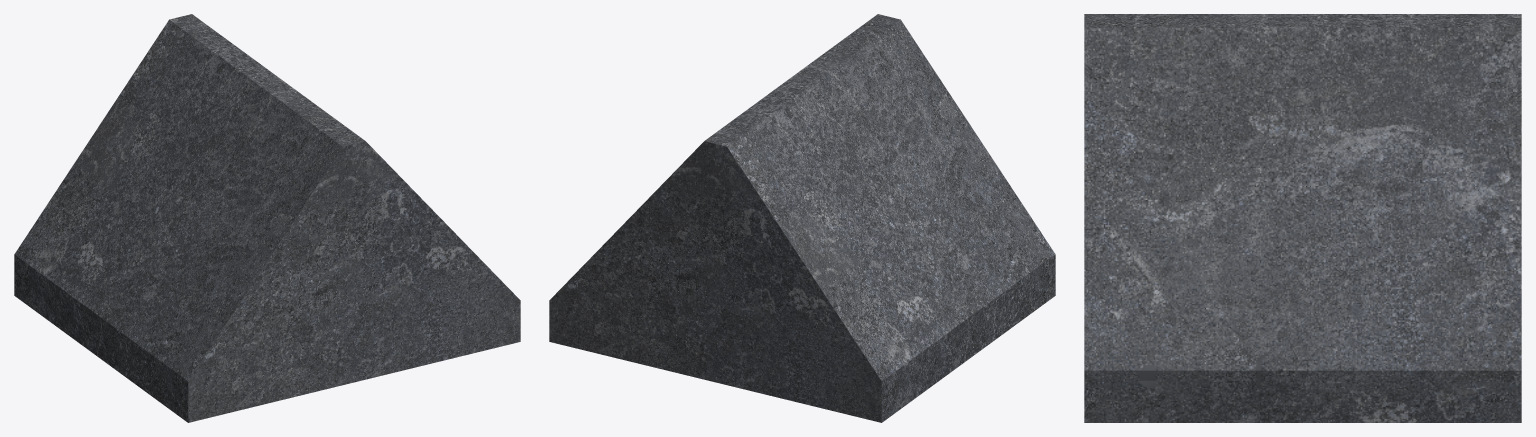
The model's file is Ramp.fbx.
3 views of the same model, side by side, from view 1: azimuth 30°, elevation 25°; view 2: azimuth 150°, elevation 25°; view 3: azimuth 270°, elevation 25° (orthographic). The views are drawn at different scales.
Visible parts, largest first — view 1: SurfRamp; view 2: SurfRamp; view 3: SurfRamp.
Part boxes in pixels (x1,y1,x2,y2): SurfRamp: (14,14,520,422); SurfRamp: (549,14,1055,422); SurfRamp: (1084,14,1521,422).
Bounding box in the file's own units: 2.21 × 1.51 × 2.
